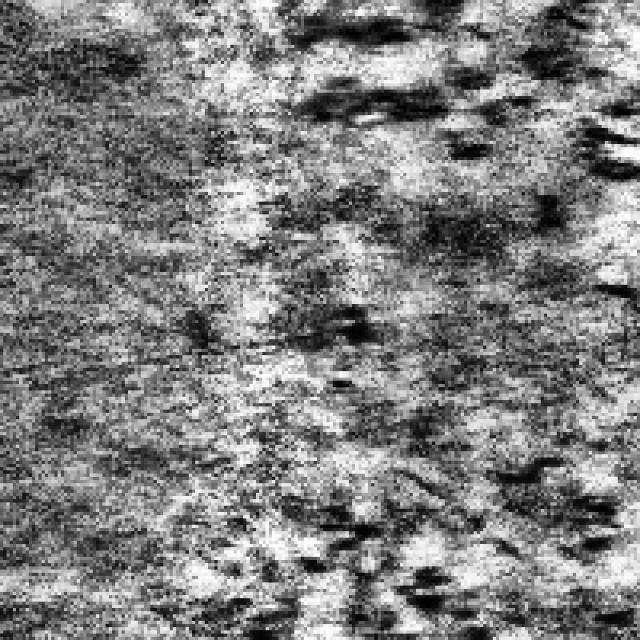Crazing: (234, 442, 634, 627), (275, 0, 630, 150)
